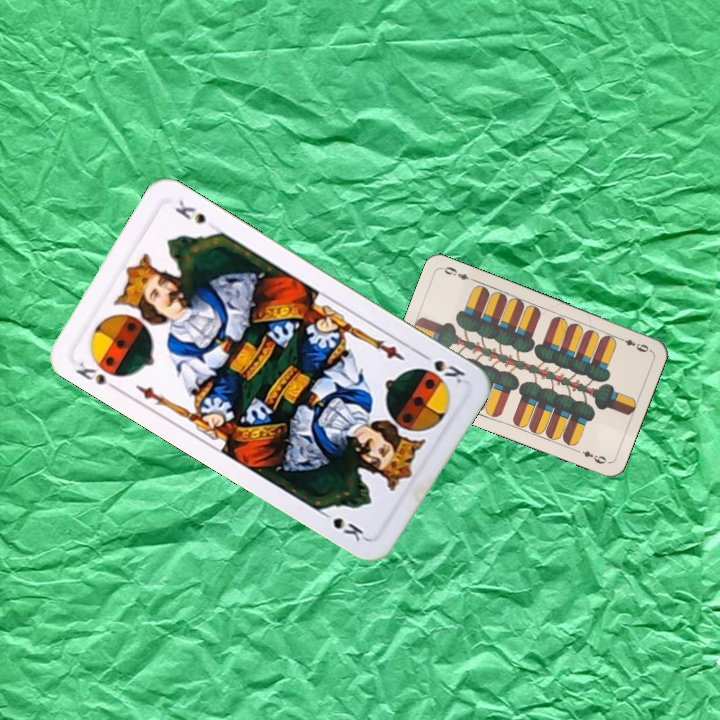E9: (614, 333, 653, 355)
SK: (415, 348, 468, 387), (71, 358, 123, 394)
